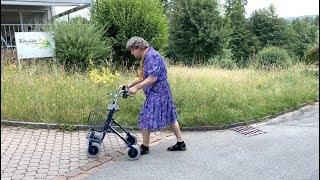walking_frame: (86, 37, 187, 161)
